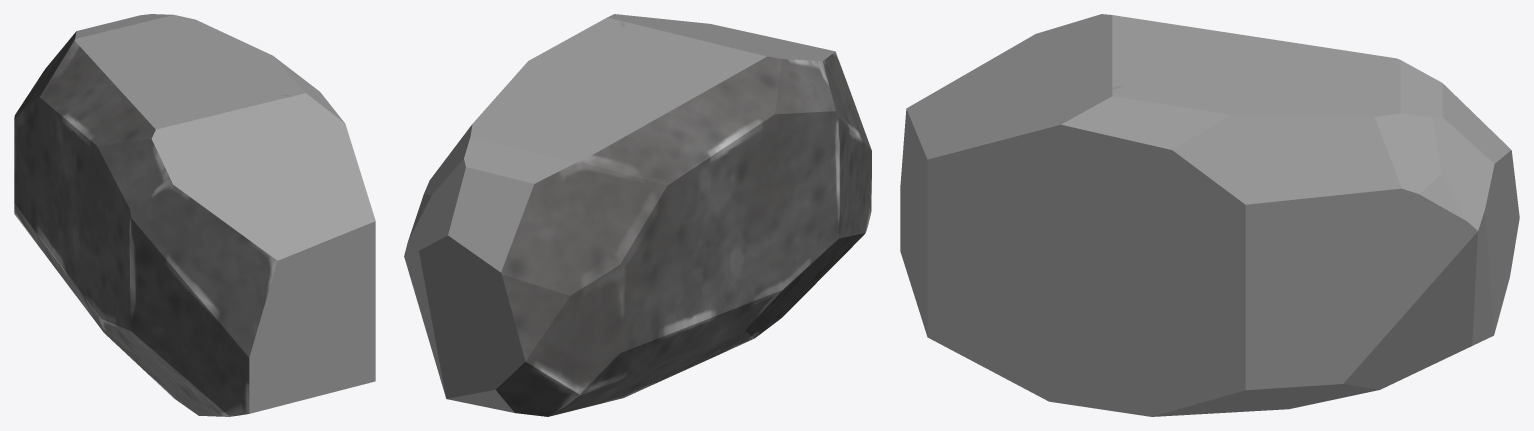
The model's file is SM_Roca4.fbx.
3 renders of one model, left to right at view 1: azimuth 30°, elevation 25°; view 2: azimuth 150°, elevation 25°; view 3: azimuth 270°, elevation 25°, orthographic. The views are drawn at different scales.
Parts seen in each view (by area): view 1: SM_Roca4; view 2: SM_Roca4; view 3: SM_Roca4.
Boxes of the visible parts, x1,y1,x2,y2 form: SM_Roca4: [14, 14, 375, 416]; SM_Roca4: [404, 14, 871, 416]; SM_Roca4: [900, 14, 1519, 416].
Bounding box in the file's own units: 147 × 153 × 281.
